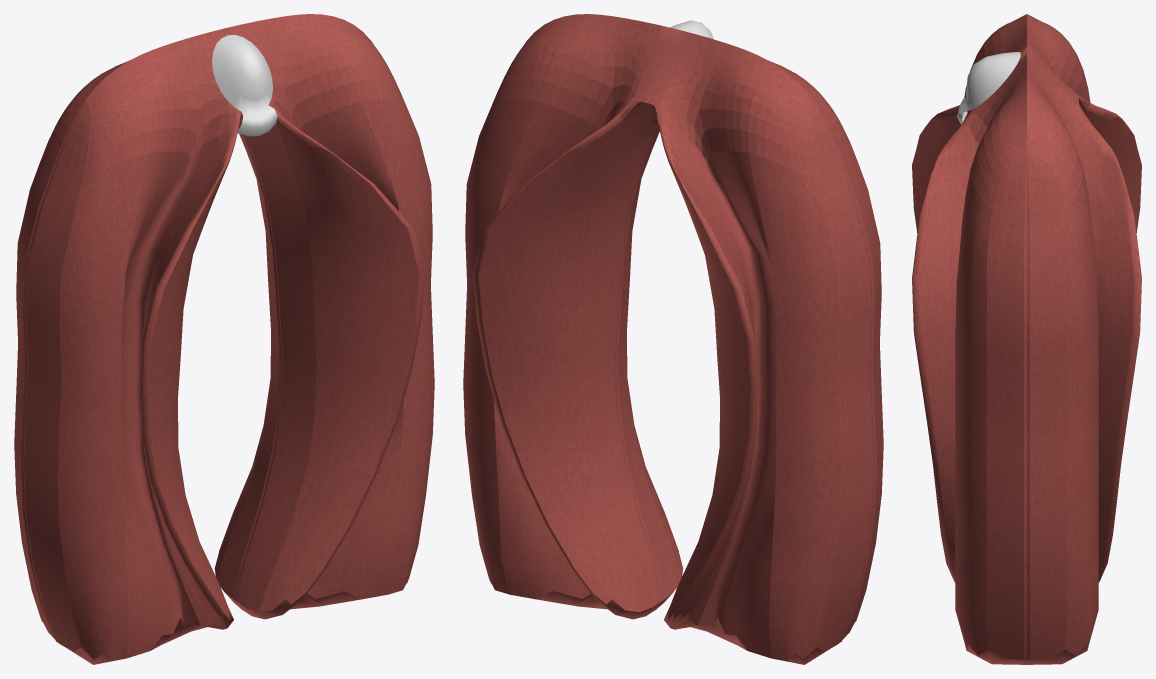
Rendered from Pussy Door.FBX.
3 renders of one model, left to right at view 1: azimuth 30°, elevation 25°; view 2: azimuth 150°, elevation 25°; view 3: azimuth 270°, elevation 25°, orthographic. The views are drawn at different scales.
Parts seen in each view (by area): view 1: Box001, Sphere001; view 2: Box001; view 3: Box001, Sphere001.
Part boxes in pixels (x1,y1,x2,y2): Box001: [14, 14, 434, 664]; Sphere001: [212, 35, 277, 136]; Box001: [463, 14, 883, 664]; Box001: [912, 14, 1141, 664]; Sphere001: [957, 52, 1020, 124].
Bounding box in the file's own units: 63.91 × 88.65 × 33.83.
